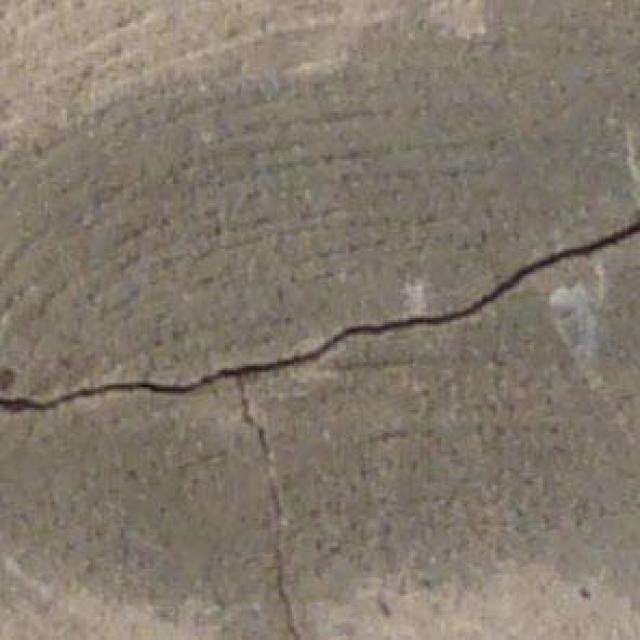horizontal crack: (0, 220, 638, 412)
vertical crack: (231, 372, 305, 638)
